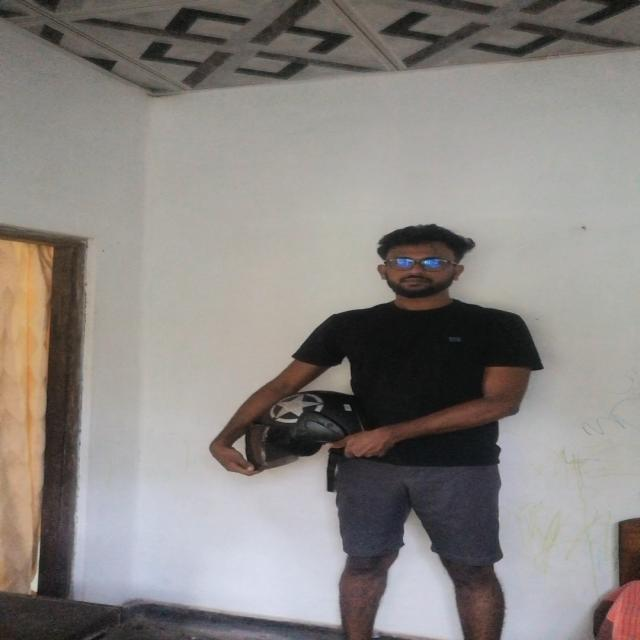Person: (246, 223, 567, 627)
